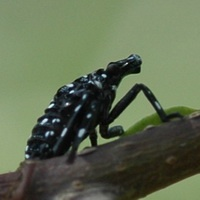insect: (25, 54, 180, 162)
